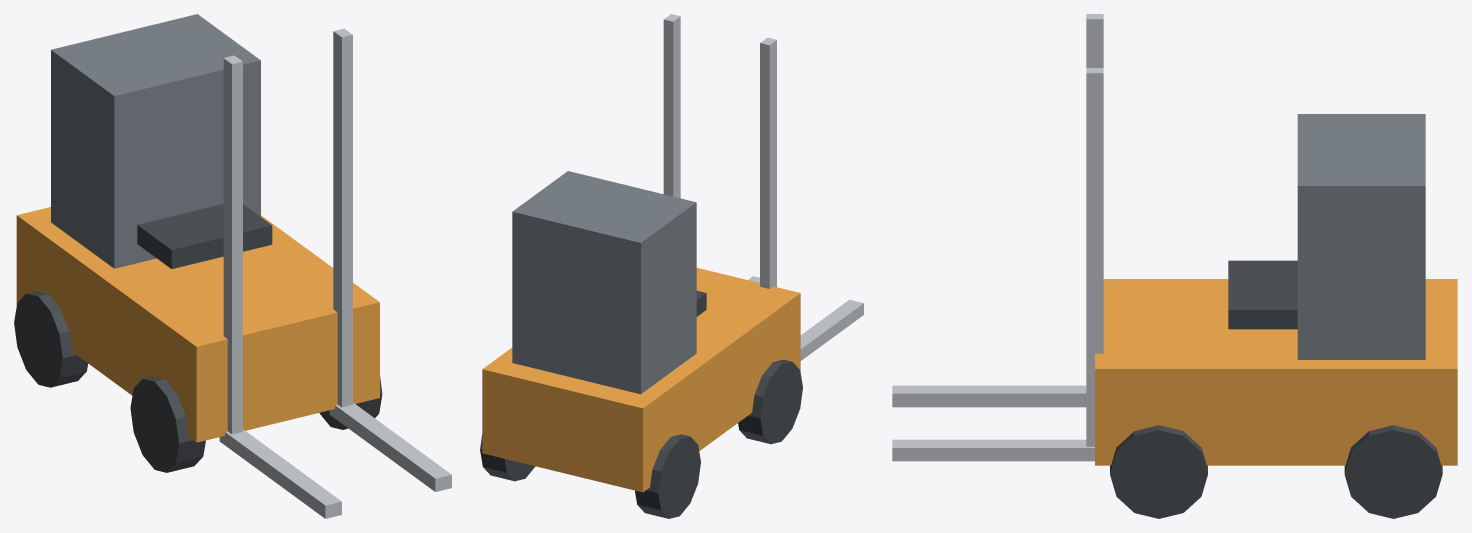
Rendered from mech-hangar-and-battle-frames-forklift-08e358da__26971.glb.
3 renders of one model, left to right at view 1: azimuth 30°, elevation 25°; view 2: azimuth 150°, elevation 25°; view 3: azimuth 270°, elevation 25°, orthographic. The views are drawn at different scales.
Parts seen in each view (by area): view 1: forklift; view 2: forklift; view 3: forklift.
Boxes of the visible parts, x1=… form: forklift: x1=14, y1=14, x2=451, y2=518; forklift: x1=480, y1=14, x2=863, y2=518; forklift: x1=892, y1=14, x2=1457, y2=518.
Bounding box in the file's own units: 1.11 × 2.2 × 2.65.
